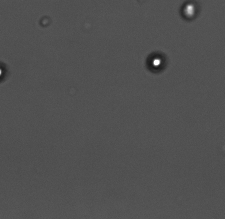Living Cell: (147, 51, 167, 71), (180, 1, 200, 19)
